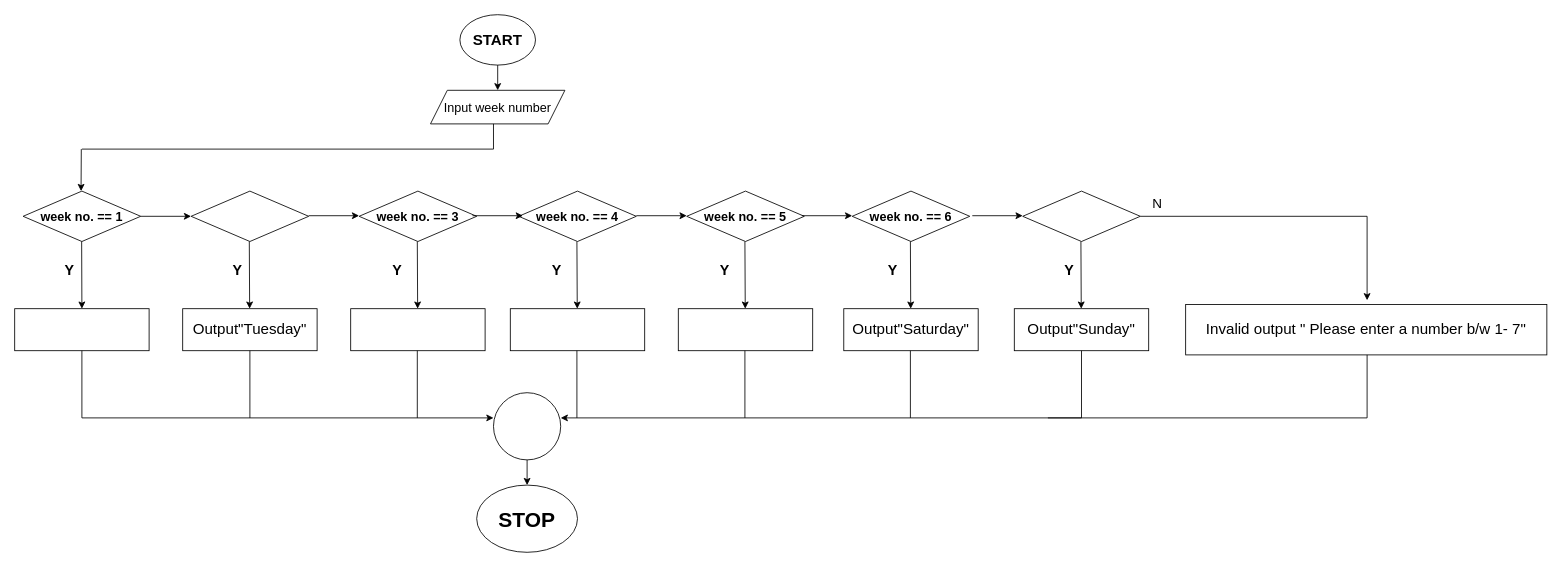
Image size: 1562x567. Some labels were removed from this diagram. The shapes that lost their labels are listed below. From the top down, each one's centre as x and y in pixels, then its label:
point 249,216: week no. == 2
point 1081,216: week no. == 7
point 81,329: Output"Monday"
point 417,329: Output"wednesday"
point 577,329: Output"Thursday"
point 745,329: Output"Friday"
